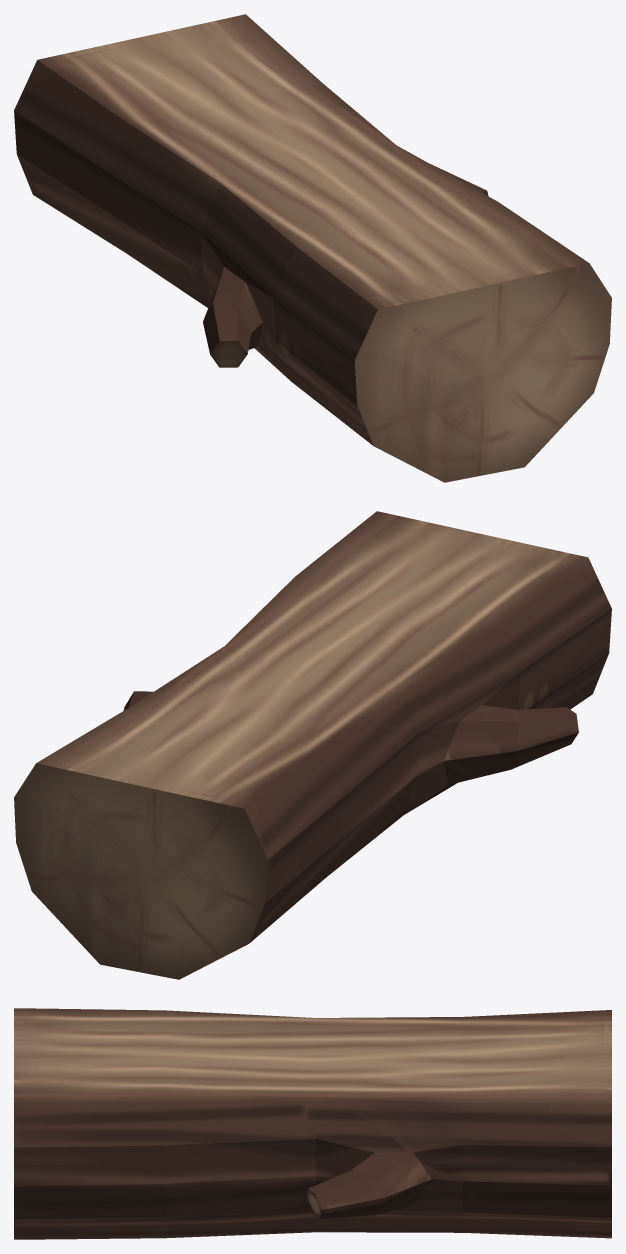
File: log.fbx
3 renders of one model, top to bottom at view 1: azimuth 30°, elevation 25°; view 2: azimuth 150°, elevation 25°; view 3: azimuth 270°, elevation 25°, orthographic. The views are drawn at different scales.
Visible parts, largest first — view 1: Circle.003; view 2: Circle.003; view 3: Circle.003.
Part boxes in pixels (left/top/right/bottom): Circle.003: left=14, top=14, right=611, bottom=482; Circle.003: left=14, top=511, right=611, bottom=979; Circle.003: left=14, top=1008, right=611, bottom=1239.
Bounding box in the file's own units: 263 × 133 × 426.
